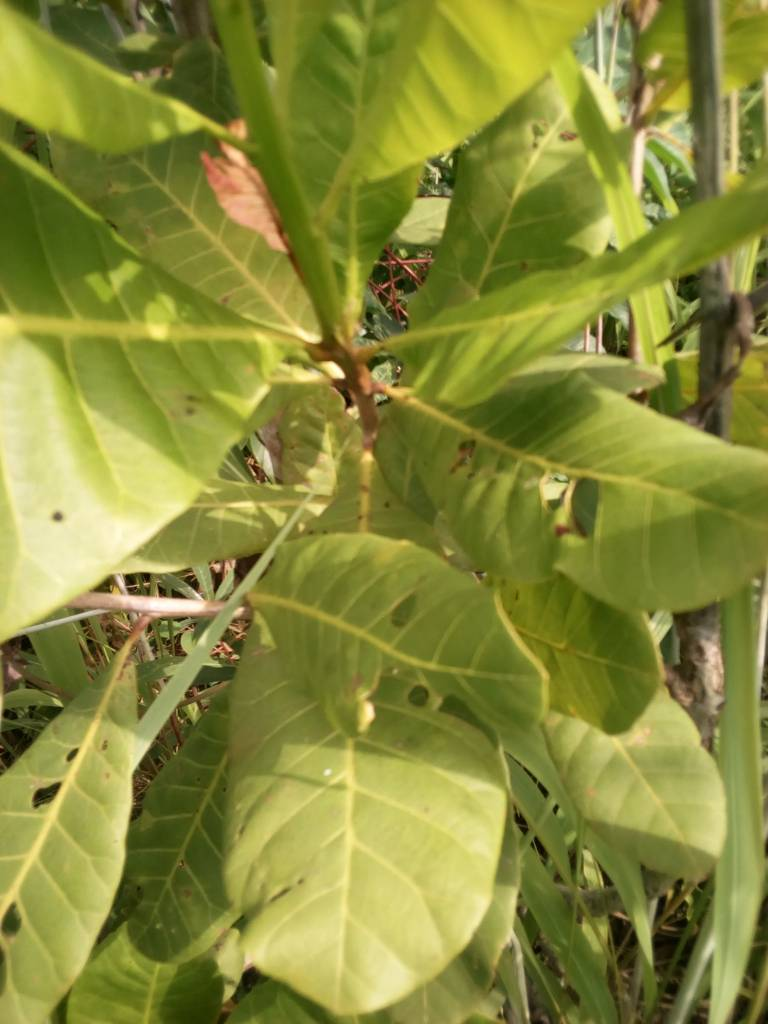Anoplonemis curvipes: (1, 200, 293, 647), (382, 364, 765, 607), (235, 524, 599, 740), (1, 658, 213, 1024)
